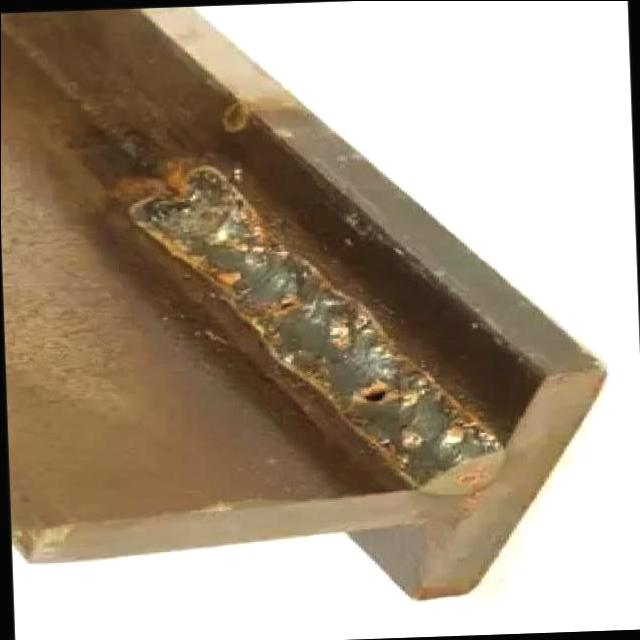defect: (354, 385, 388, 404), (267, 297, 296, 315)
